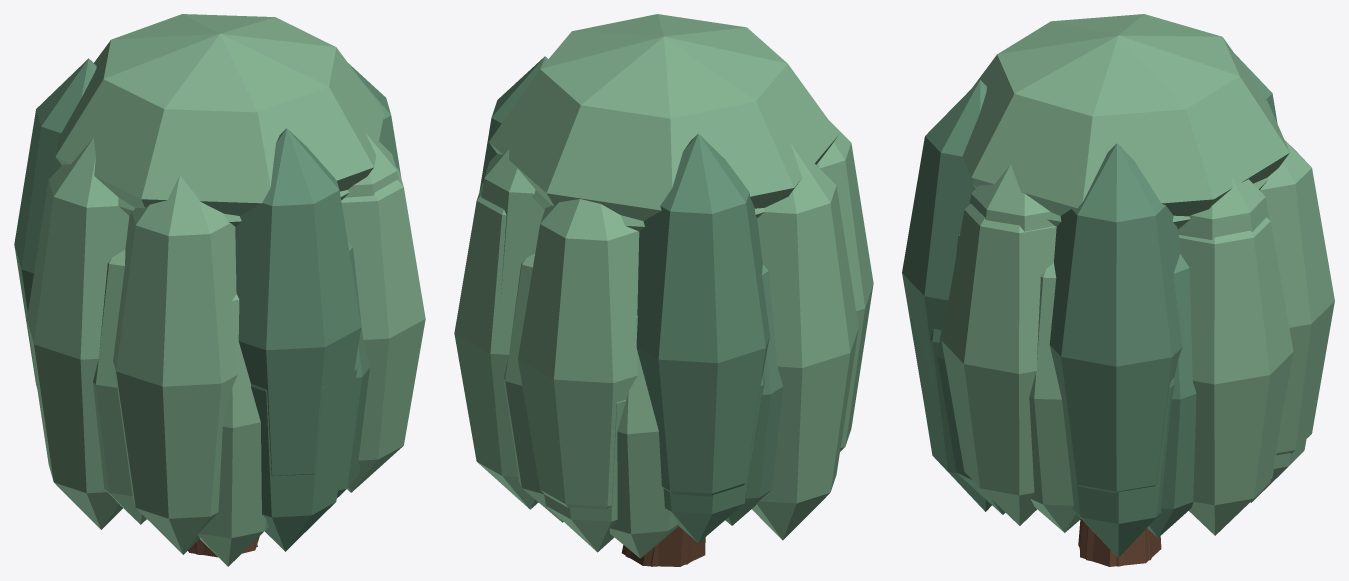
The model's file is tree_willow.glb.
3 renders of one model, left to right at view 1: azimuth 30°, elevation 25°; view 2: azimuth 150°, elevation 25°; view 3: azimuth 270°, elevation 25°, orthographic.
Parts seen in each view (by area): view 1: Willow_dome_canopy.002, Willow_drooping_curtain_canopy.021, Willow_drooping_curtain_canopy.022, Willow_drooping_curtain_canopy.020, Willow_drooping_curtain_canopy.023, Willow_drooping_curtain_canopy.013, Willow_drooping_curtain_canopy.006, Willow_drooping_curtain_canopy.019, Willow_drooping_curtain_canopy.012, Willow_drooping_curtain_canopy.014, Willow_drooping_curtain_canopy.007, Willow_drooping_curtain_canopy.016; view 2: Willow_dome_canopy.002, Willow_drooping_curtain_canopy.019, Willow_drooping_curtain_canopy.018, Willow_drooping_curtain_canopy.020, Willow_drooping_curtain_canopy.017, Willow_drooping_curtain_canopy.010, Willow_drooping_curtain_canopy.021, Willow_drooping_curtain_canopy.001, Willow_drooping_curtain_canopy.011, Willow_drooping_curtain_canopy.009, Willow_drooping_curtain_canopy.003, Willow_drooping_curtain_canopy.002 (+2 smaller); view 3: Willow_dome_canopy.002, Willow_drooping_curtain_canopy.016, Willow_drooping_curtain_canopy.017, Willow_drooping_curtain_canopy.023, Willow_drooping_curtain_canopy.018, Willow_drooping_curtain_canopy.022, Willow_drooping_curtain_canopy.015, Willow_drooping_curtain_canopy.008, Willow_drooping_curtain_canopy, Willow_drooping_curtain_canopy.006, Willow_drooping_curtain_canopy.001, Willow_drooping_curtain_canopy.007 (+3 smaller).
Part boxes in pixels (x1,y1,x2,y2): Willow_dome_canopy.002: [55, 14, 383, 215]; Willow_drooping_curtain_canopy.021: [113, 175, 237, 554]; Willow_drooping_curtain_canopy.022: [235, 128, 361, 476]; Willow_drooping_curtain_canopy.020: [27, 138, 129, 529]; Willow_drooping_curtain_canopy.023: [341, 167, 425, 492]; Willow_drooping_curtain_canopy.013: [198, 294, 268, 566]; Willow_drooping_curtain_canopy.006: [251, 361, 357, 551]; Willow_drooping_curtain_canopy.019: [14, 58, 96, 388]; Willow_drooping_curtain_canopy.012: [93, 249, 146, 524]; Willow_drooping_curtain_canopy.014: [337, 241, 369, 497]; Willow_drooping_curtain_canopy.007: [345, 132, 398, 197]; Willow_drooping_curtain_canopy.016: [348, 63, 401, 177]; Willow_dome_canopy.002: [489, 14, 838, 220]; Willow_drooping_curtain_canopy.019: [636, 133, 769, 496]; Willow_drooping_curtain_canopy.018: [518, 199, 639, 509]; Willow_drooping_curtain_canopy.020: [752, 143, 858, 540]; Willow_drooping_curtain_canopy.017: [454, 182, 538, 509]; Willow_drooping_curtain_canopy.010: [609, 316, 678, 558]; Willow_drooping_curtain_canopy.021: [818, 120, 873, 451]; Willow_drooping_curtain_canopy.001: [481, 149, 544, 307]; Willow_drooping_curtain_canopy.011: [725, 264, 782, 525]; Willow_drooping_curtain_canopy.009: [503, 253, 563, 522]; Willow_drooping_curtain_canopy.003: [663, 373, 764, 542]; Willow_drooping_curtain_canopy.002: [544, 400, 625, 552]; Willow_dome_canopy.002: [962, 14, 1289, 216]; Willow_drooping_curtain_canopy.016: [1049, 143, 1182, 493]; Willow_drooping_curtain_canopy.017: [1178, 217, 1293, 535]; Willow_drooping_curtain_canopy.023: [941, 203, 1056, 525]; Willow_drooping_curtain_canopy.018: [1259, 140, 1334, 455]; Willow_drooping_curtain_canopy.022: [902, 80, 986, 393]; Willow_drooping_curtain_canopy.015: [1029, 263, 1080, 532]; Willow_drooping_curtain_canopy.008: [1147, 254, 1196, 537]; Willow_drooping_curtain_canopy: [1071, 378, 1174, 557]; Willow_drooping_curtain_canopy.006: [910, 319, 991, 511]; Willow_drooping_curtain_canopy.001: [1178, 178, 1269, 239]; Willow_drooping_curtain_canopy.007: [969, 164, 1054, 231].
Bounding box in the file's own units: 2.41 × 3.16 × 2.41.
